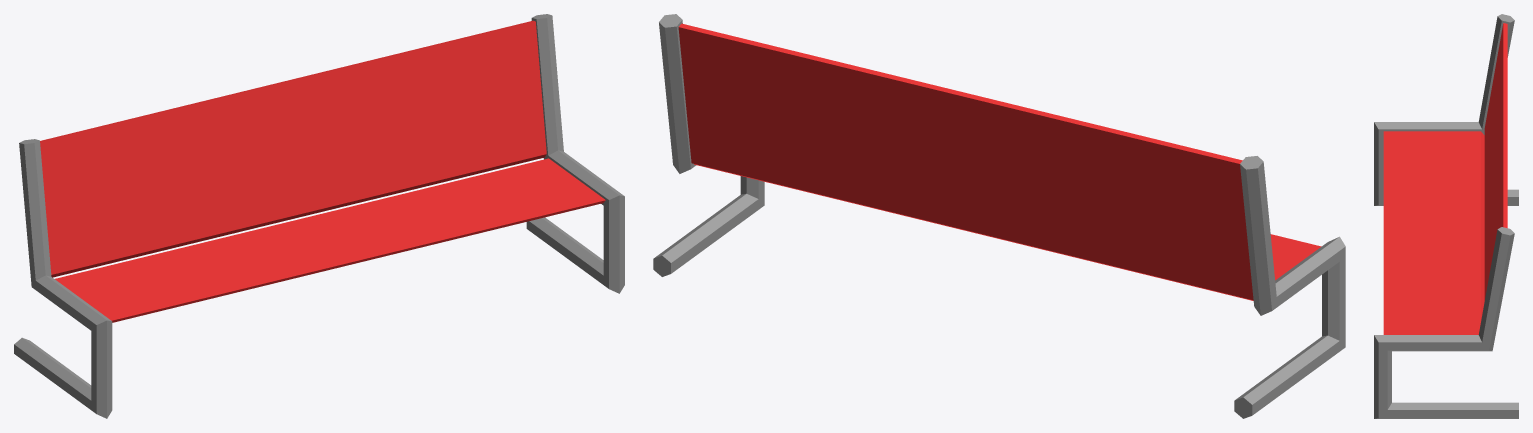
Rendered from SM_Bench_01_03.FBX.
3 views of the same model, side by side, from view 1: azimuth 30°, elevation 25°; view 2: azimuth 150°, elevation 25°; view 3: azimuth 270°, elevation 25° (orthographic). The views are drawn at different scales.
Visible parts, largest first — view 1: SM_Bench_01_03; view 2: SM_Bench_01_03; view 3: SM_Bench_01_03.
Boxes of the visible parts, x1,y1,x2,y2 form: SM_Bench_01_03: (14,14,624,418); SM_Bench_01_03: (653,14,1345,418); SM_Bench_01_03: (1374,14,1518,418).
Size of the model in its own units: 1.7 by 0.6865 by 0.4749.
1 material, 1 textured.
